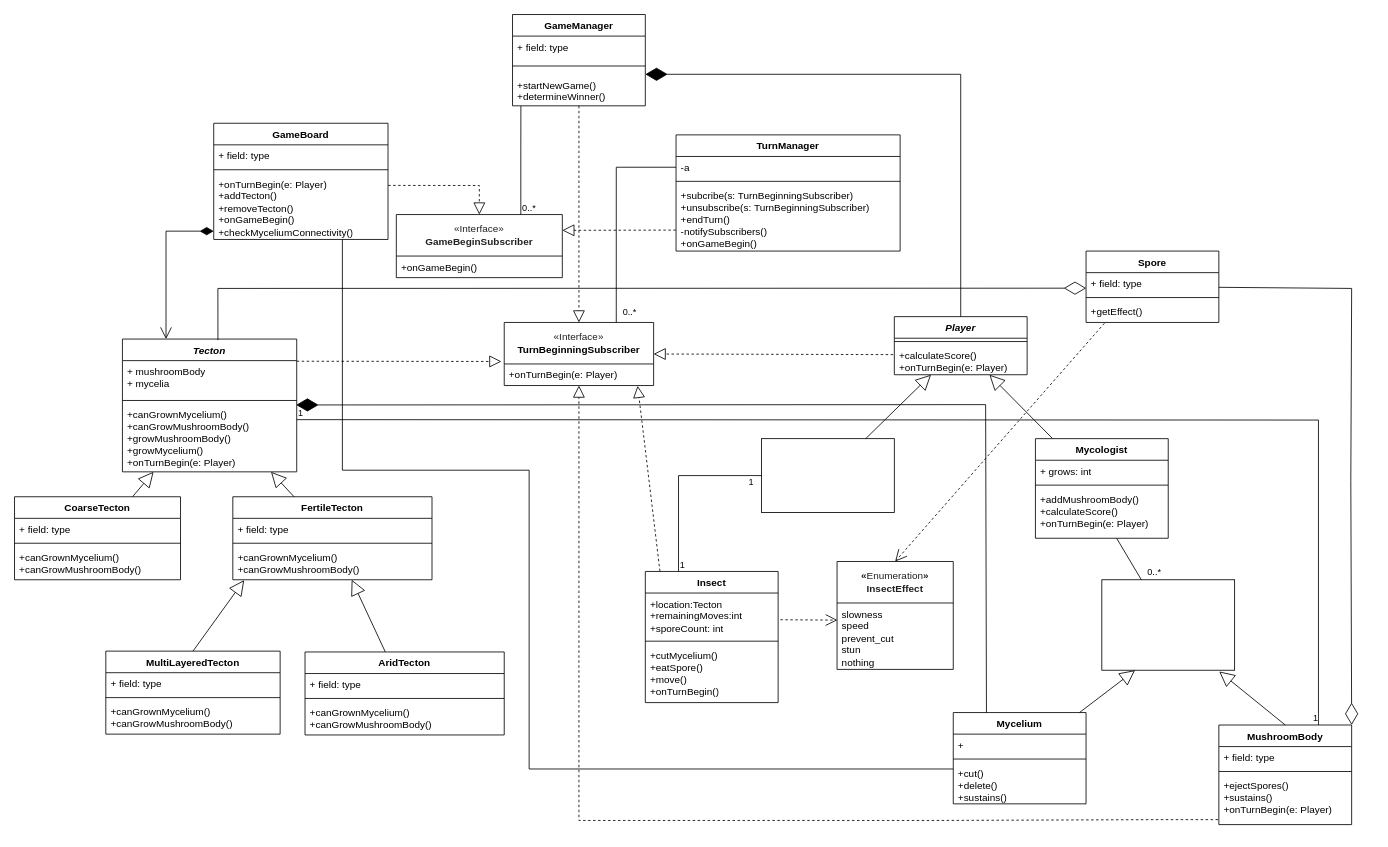
Some shapes in this 1388 by 847 pixel diagram are drawn without their labels. Each missing label, with the centre of its shape:
"Entomologist + field: Type +onTurnBegin(e: Player) +calculateScore()" goes at point (827, 475).
"Mushroom +location:Tecton +growMycelium() +sustains()" goes at point (1168, 624).
